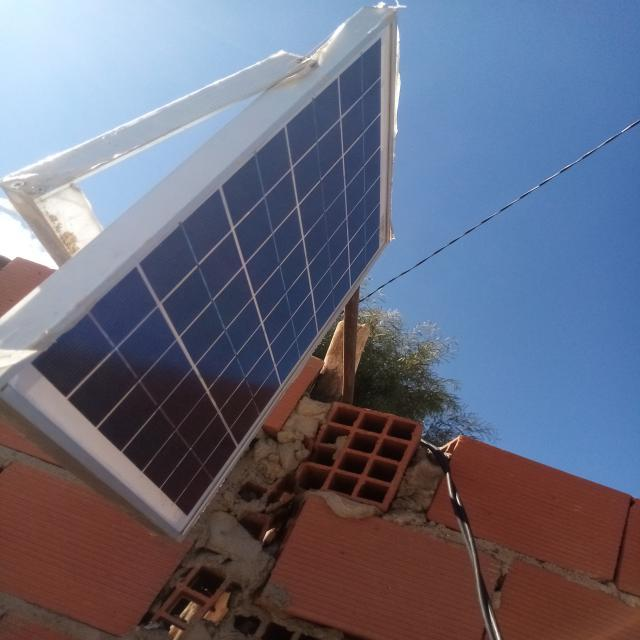no faulty: (0, 15, 392, 540)
